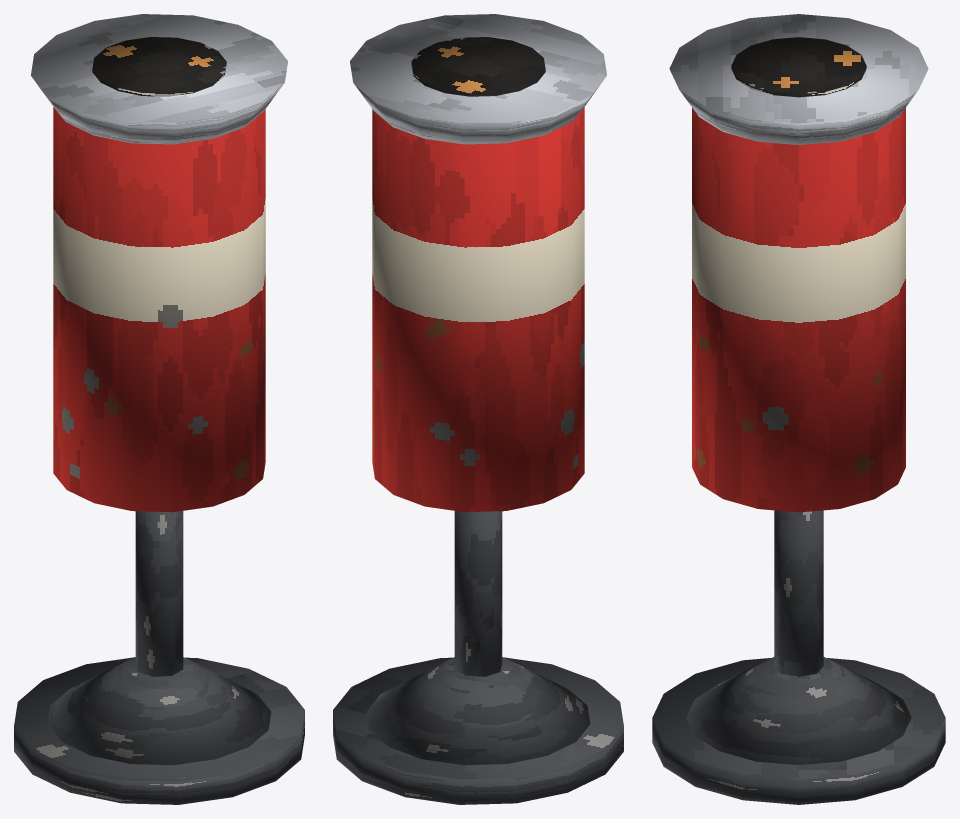
File: ashtray_own.glb
The picture shows the model from 3 angles, left to right: view 1: azimuth 30°, elevation 25°; view 2: azimuth 150°, elevation 25°; view 3: azimuth 270°, elevation 25°; orthographic projection.
Visible parts, largest first — view 1: Cylinder; view 2: Cylinder; view 3: Cylinder.
Boxes of the visible parts, bbox=[...] form: Cylinder: bbox=[14, 14, 304, 804]; Cylinder: bbox=[333, 14, 623, 804]; Cylinder: bbox=[652, 14, 945, 804].
Size of the model in its own units: 0.26 by 0.663 by 0.26.
4 materials, 4 textured.
